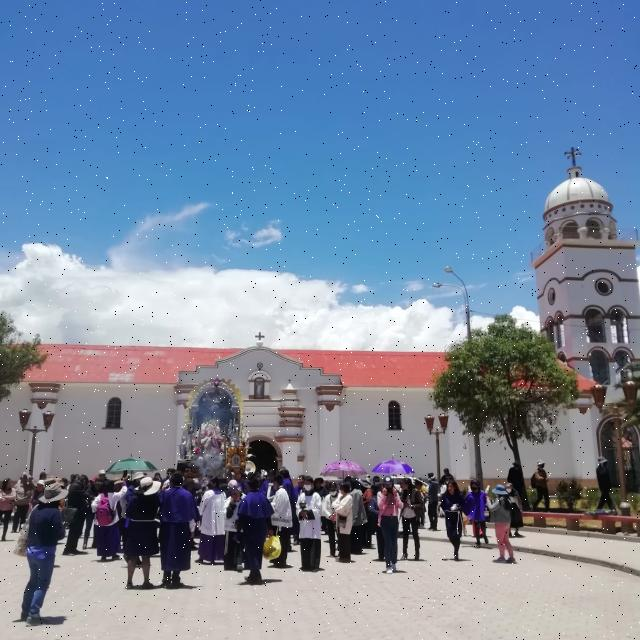CAMPANARIO: (526, 247, 640, 406)
CUPULA: (518, 171, 625, 242)
TORRES: (543, 151, 640, 557)
colonial-architecture-: (0, 136, 640, 568)
